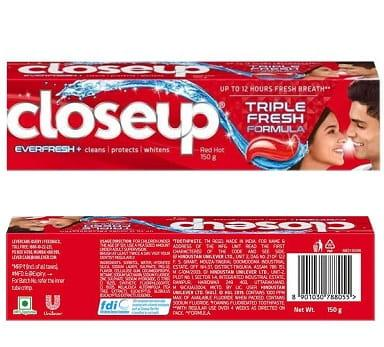CloseUp: (6, 63, 379, 173)
